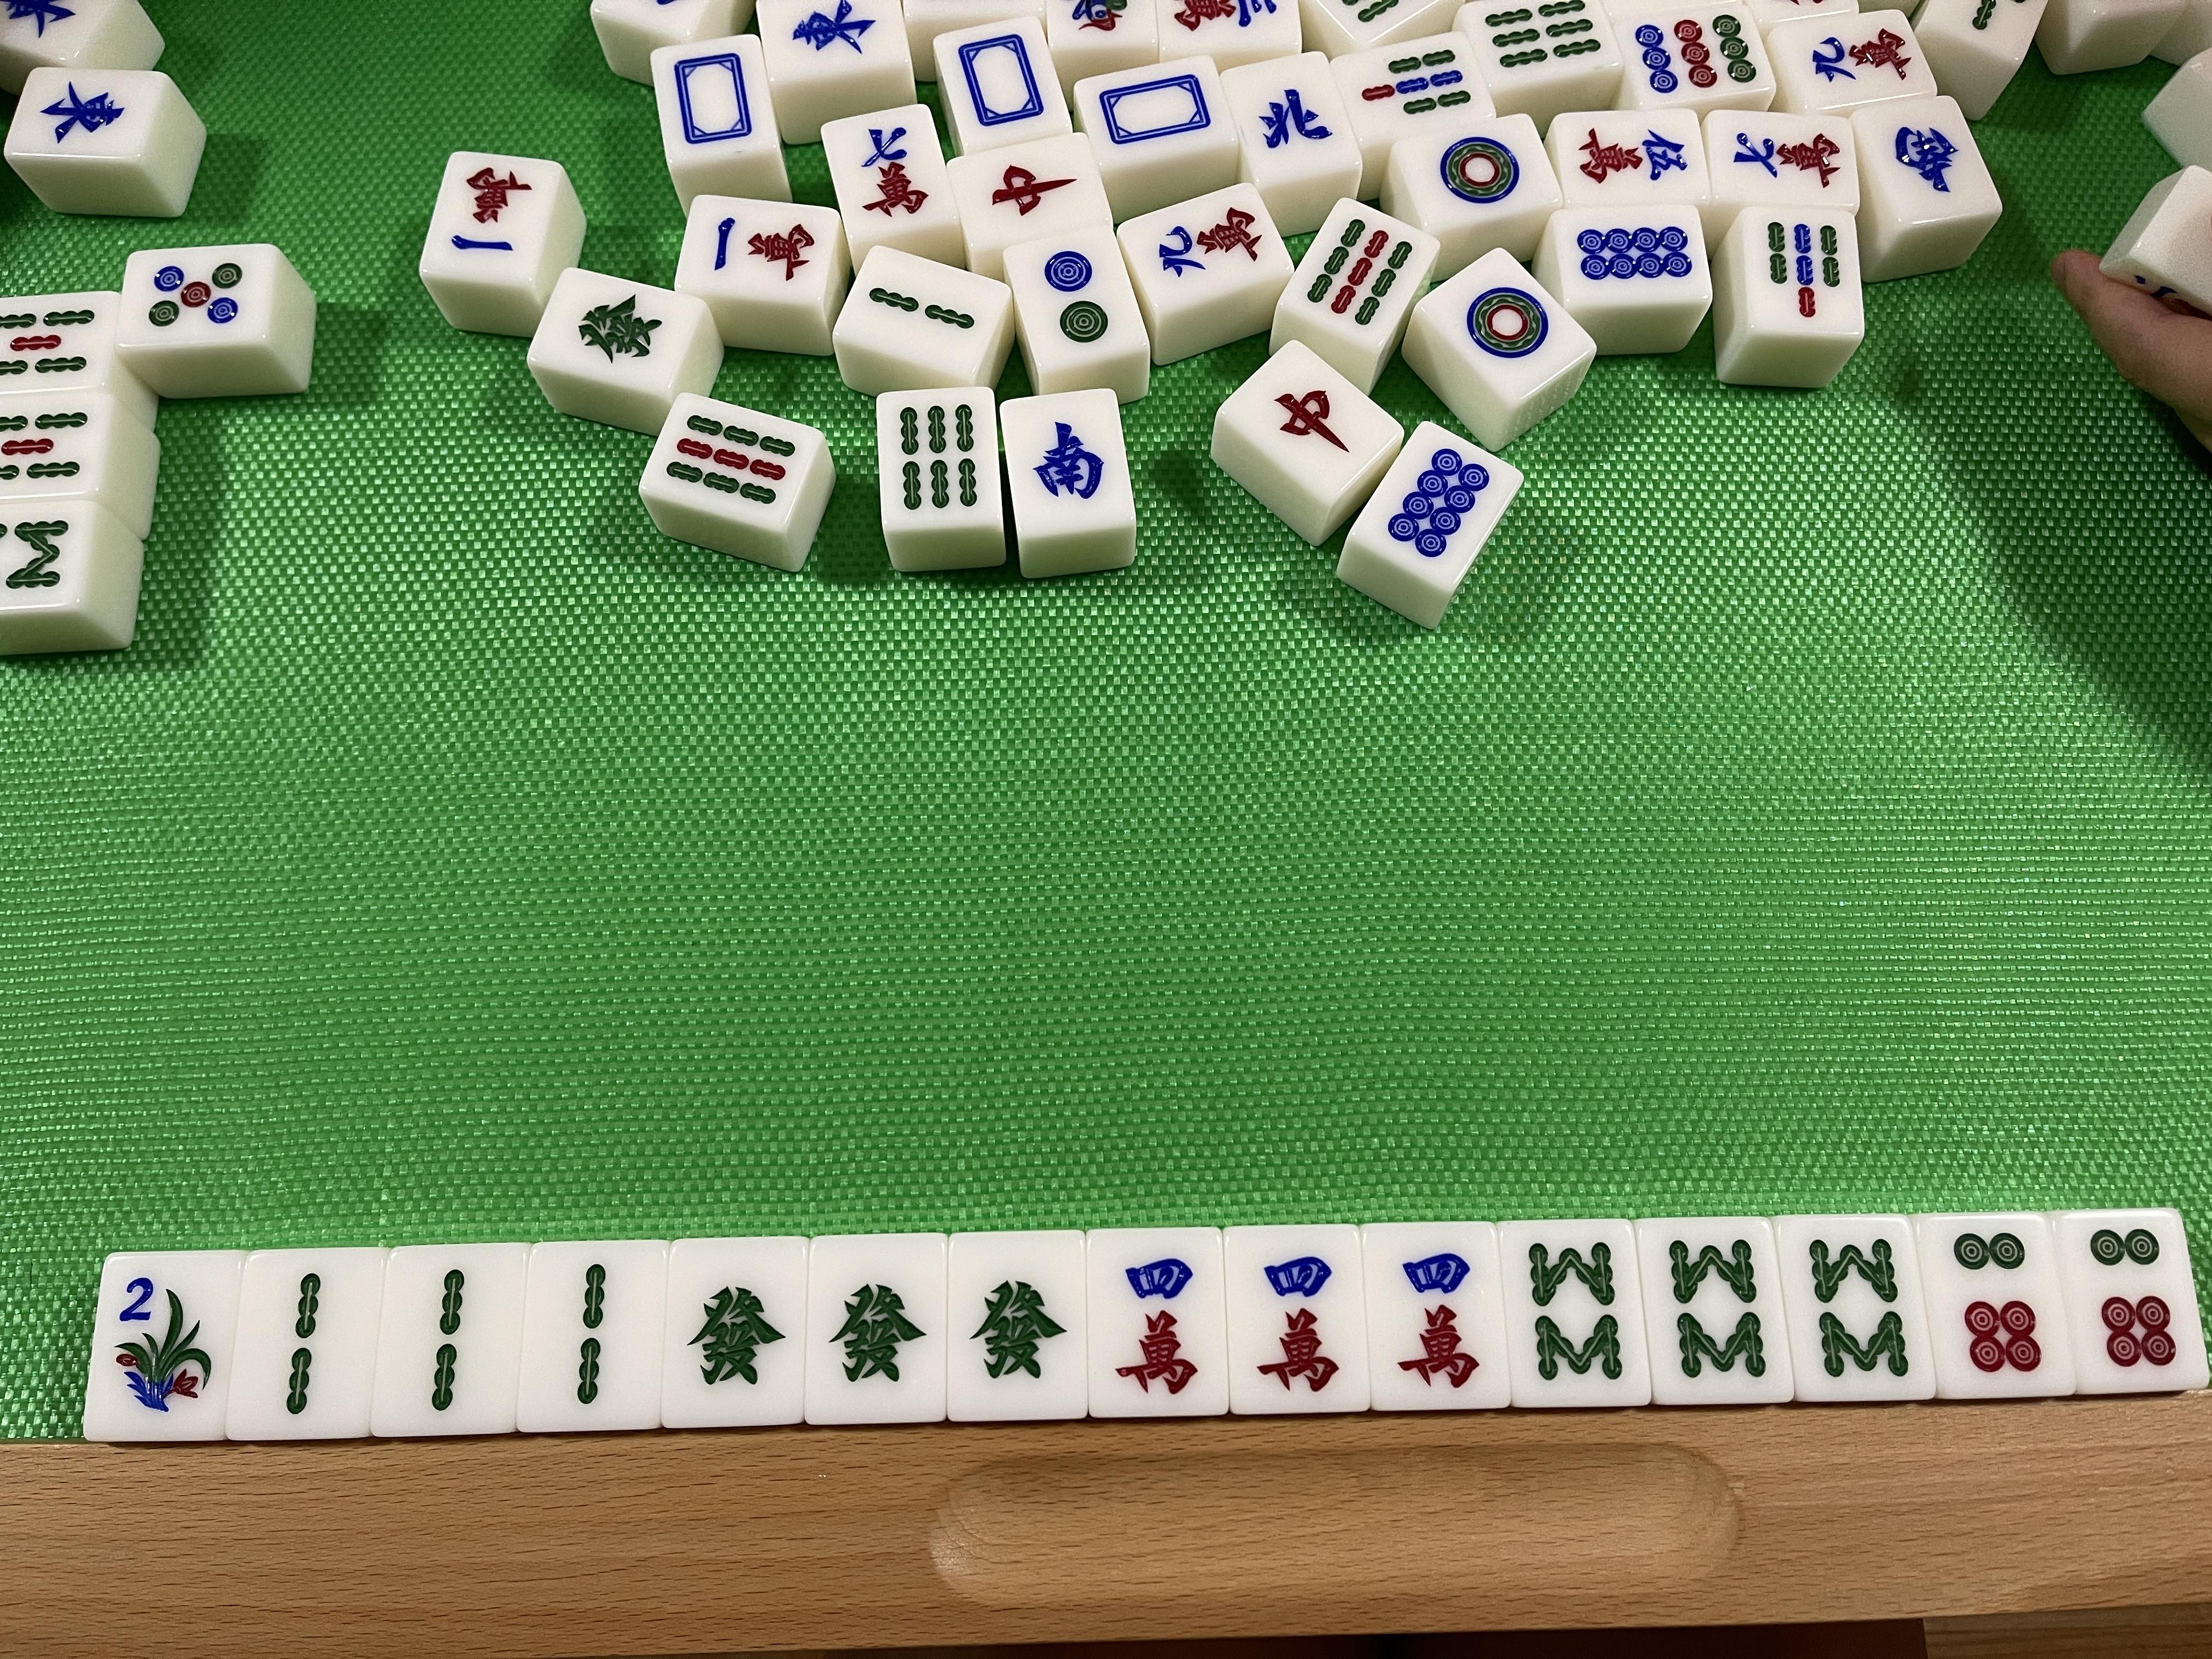bamboo-eight: (1799, 1227, 1916, 1385), (1658, 1229, 1773, 1384), (1521, 1232, 1625, 1391)
bamboo-two: (397, 1256, 503, 1419), (540, 1248, 639, 1415), (256, 1258, 352, 1420)
character-four: (1371, 1241, 1487, 1396), (1104, 1248, 1212, 1401), (1244, 1248, 1352, 1392)
circle-six: (1935, 1227, 2057, 1371), (2080, 1222, 2184, 1373)
flower-blue_two: (105, 1263, 216, 1422)
honor-green_dragon: (817, 1267, 941, 1410), (672, 1262, 792, 1405), (956, 1267, 1071, 1399)
